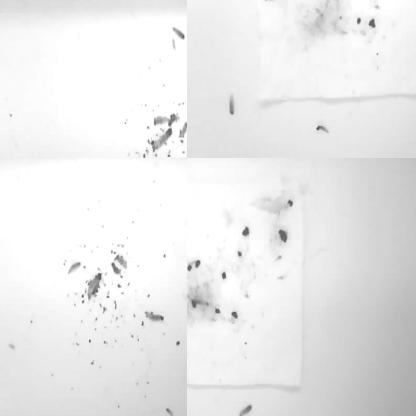PtecticusTenebrifer: (152, 127, 173, 148), (88, 275, 100, 299), (145, 308, 164, 323), (67, 260, 81, 275), (172, 27, 186, 40), (153, 115, 172, 124), (239, 405, 252, 416), (229, 92, 235, 115), (180, 120, 187, 139), (0, 378, 6, 400), (317, 124, 330, 134), (303, 0, 321, 7), (187, 356, 192, 381), (170, 158, 187, 165), (187, 176, 195, 190), (187, 306, 194, 319), (187, 249, 193, 264), (37, 158, 54, 163), (123, 158, 135, 165), (39, 0, 55, 5), (229, 158, 242, 164), (0, 158, 7, 167)
